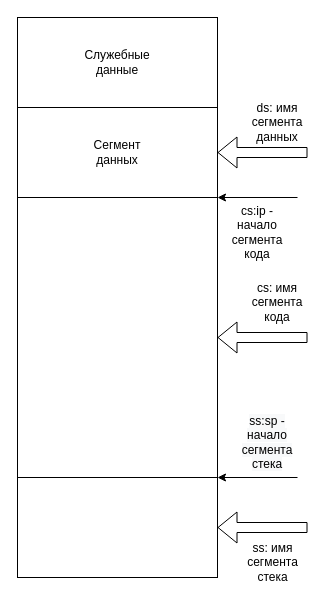
Some shapes in this 325 by 605 pixel diagram are drawn without their labels. Each missing label, with the centre of its shape:
Сегмент кода: (117,337)
Сегмент стека: (117,527)
